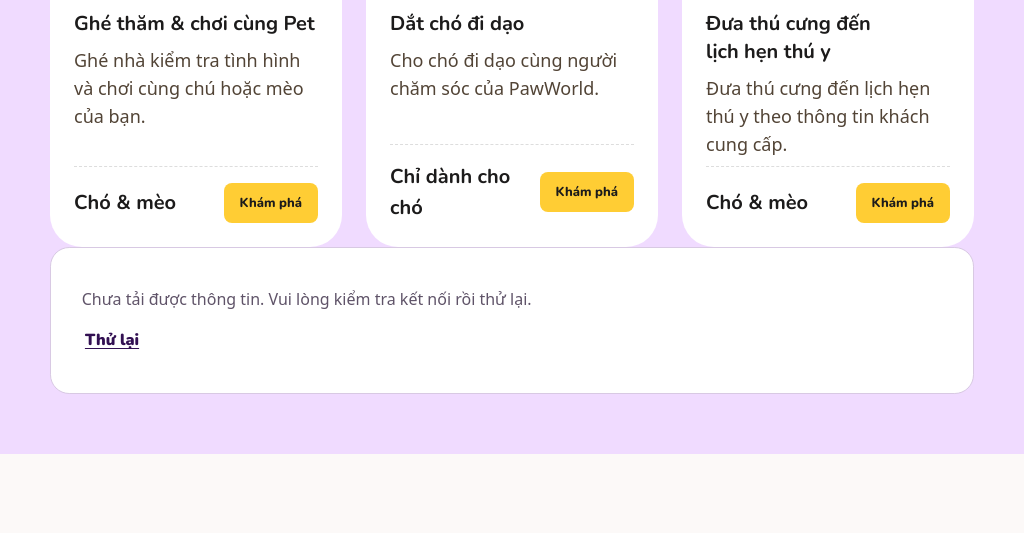
Test: homepage lets a visitor retry after a catalog error
(page scrolled)
Check: the message shows "Chưa tải được thông tin", box [82,288,532,310]
Step 1. Click the button "Thử lại" → {"x": 112, "y": 341}, box [82,319,142,363]
(page scrolled)
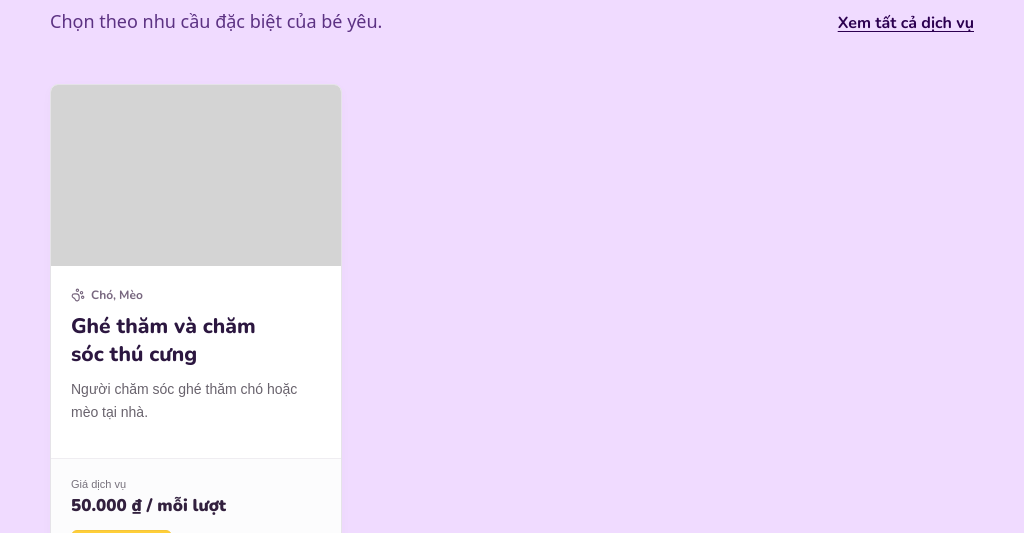
Check: the heading "Ghé thăm và chăm sóc thú cưng" is shown, box [71,312,256,368]
